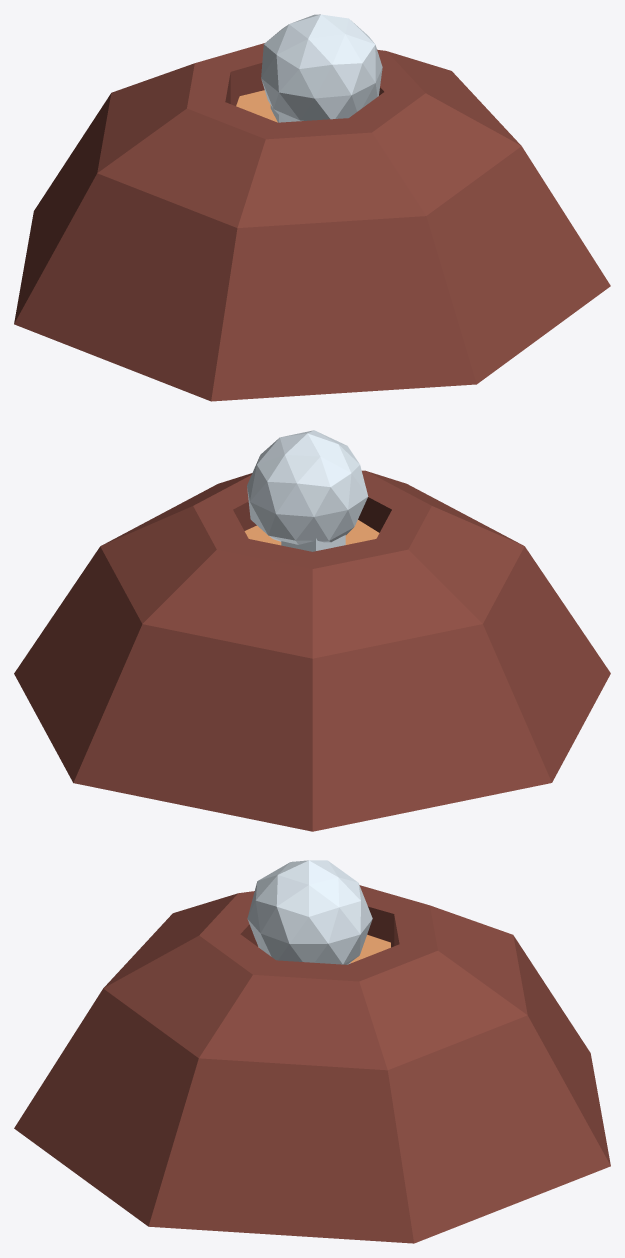
File: volcanic-g0.glb
The picture shows the model from 3 angles, top to bottom: view 1: azimuth 30°, elevation 25°; view 2: azimuth 150°, elevation 25°; view 3: azimuth 270°, elevation 25°; orthographic projection.
Visible parts, largest first — view 1: volcanic-g0; view 2: volcanic-g0; view 3: volcanic-g0.
Boxes of the visible parts, x1,y1,x2,y2 form: volcanic-g0: (14,14,610,401); volcanic-g0: (14,430,610,831); volcanic-g0: (14,860,610,1243).
Bounding box in the file's own units: 0.8749 × 0.4234 × 0.8677.
